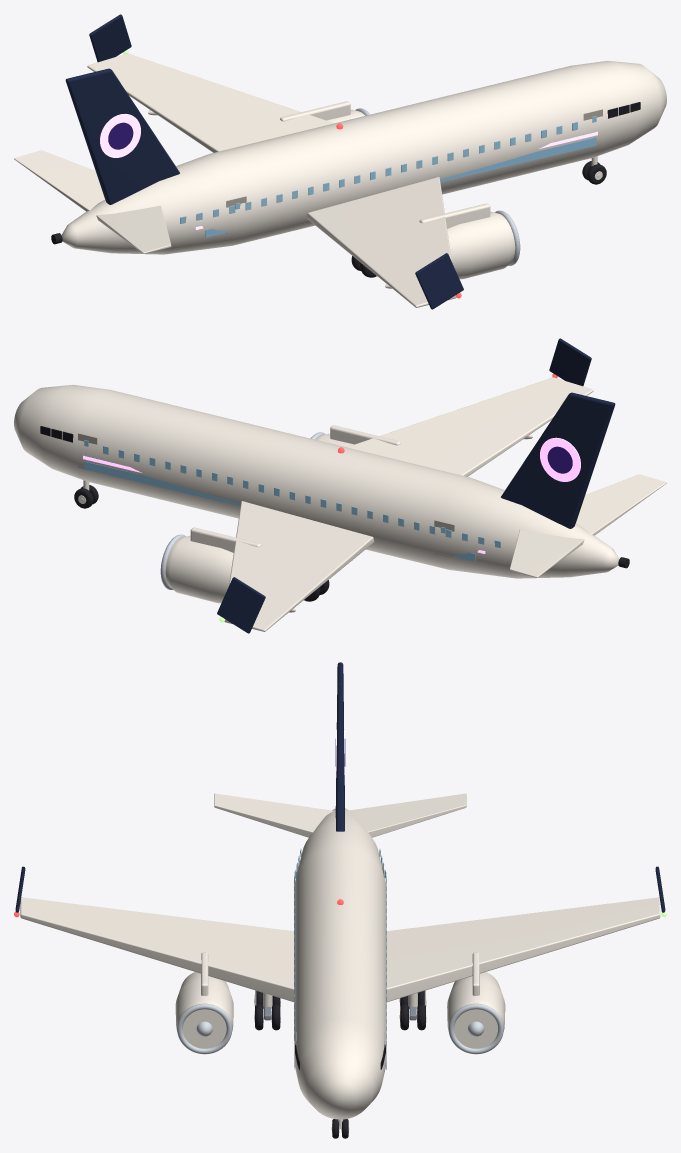
The model's file is airliner.glb.
3 views of the same model, one above another, from view 1: azimuth 30°, elevation 25°; view 2: azimuth 150°, elevation 25°; view 3: azimuth 270°, elevation 25° (orthographic). The views are drawn at different scales.
Visible parts, largest first — view 1: airliner; view 2: airliner; view 3: airliner.
Boxes of the visible parts, bbox=[...] form: airliner: bbox=[14, 14, 666, 309]; airliner: bbox=[14, 338, 666, 633]; airliner: bbox=[14, 662, 666, 1138].
Size of the model in its own units: 28.25 by 10.25 by 26.94.
1 material, 1 textured.
